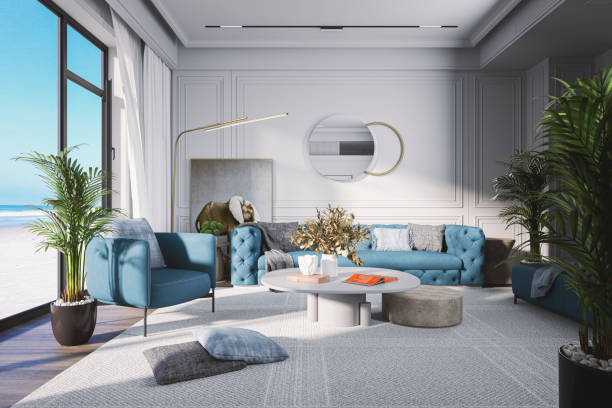chair: (80, 214, 217, 339)
floor lamp: (168, 110, 291, 232)
flower vase: (293, 206, 366, 276)
large plant: (543, 75, 612, 408), (15, 141, 119, 347), (496, 146, 557, 263)
sofa: (227, 223, 487, 289)
table: (259, 264, 420, 326)
wall art: (305, 111, 403, 182)
